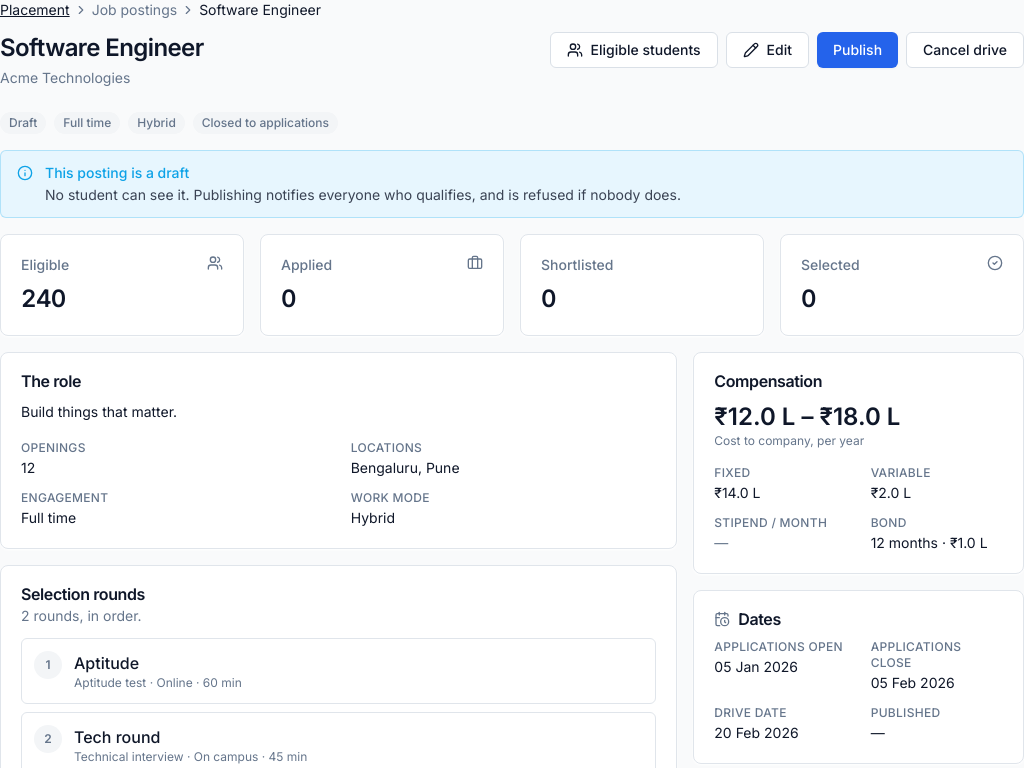
Scenario: Job posting detail page › asks for a reason before cancelling
Expected: the heading "Software Engineer" is shown, [0,32,204,64]
Click the button "Cancel drive" at (965, 50), box [906,32,1023,68]
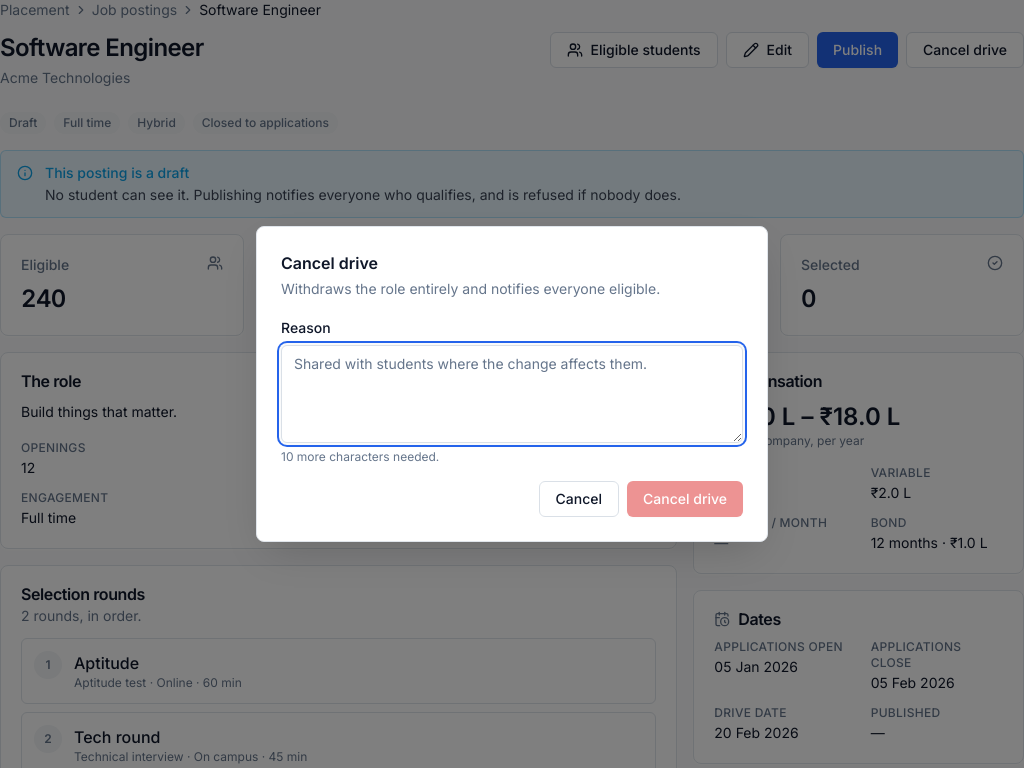
Result: the text box labelled "Reason 10 more characters needed." is shown at [281,345,743,443]
